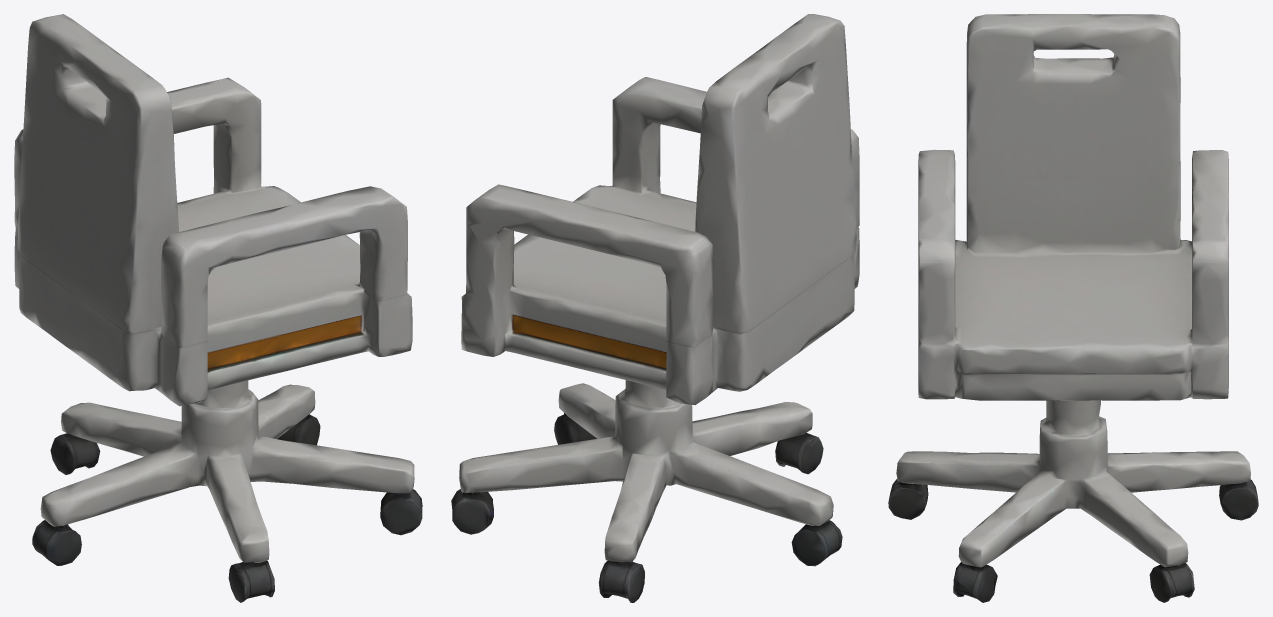
3 views of the same model, side by side, from view 1: azimuth 30°, elevation 25°; view 2: azimuth 150°, elevation 25°; view 3: azimuth 270°, elevation 25° (orthographic). The views are drawn at different scales.
Visible parts, largest first — view 1: tripo_node_936336c0-df44-4c4b-af33-6f2588dad9d2; view 2: tripo_node_936336c0-df44-4c4b-af33-6f2588dad9d2; view 3: tripo_node_936336c0-df44-4c4b-af33-6f2588dad9d2.
Boxes of the visible parts, x1,y1,x2,y2 form: tripo_node_936336c0-df44-4c4b-af33-6f2588dad9d2: (14,14,422,602); tripo_node_936336c0-df44-4c4b-af33-6f2588dad9d2: (451,14,859,602); tripo_node_936336c0-df44-4c4b-af33-6f2588dad9d2: (888,14,1258,602).
Bounding box in the file's own units: 0.6988 × 1 × 0.7205.
Materials: 1 (1 with a texture image).
